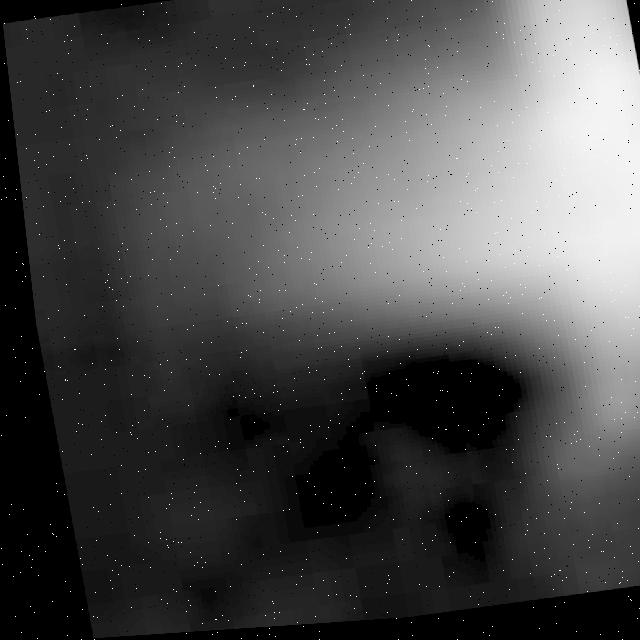person: (194, 52, 640, 389)
